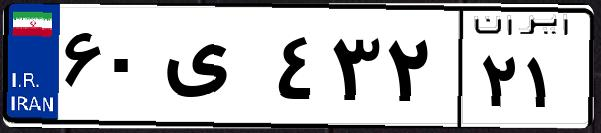0: (110, 28, 158, 98)
1: (525, 38, 570, 115)
2: (385, 28, 445, 110), (475, 38, 525, 113)
3: (330, 28, 385, 110)
4: (270, 28, 330, 110)
6: (57, 26, 110, 100)
ی: (158, 20, 270, 120)
